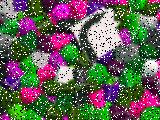Right: (71, 7, 123, 64)
